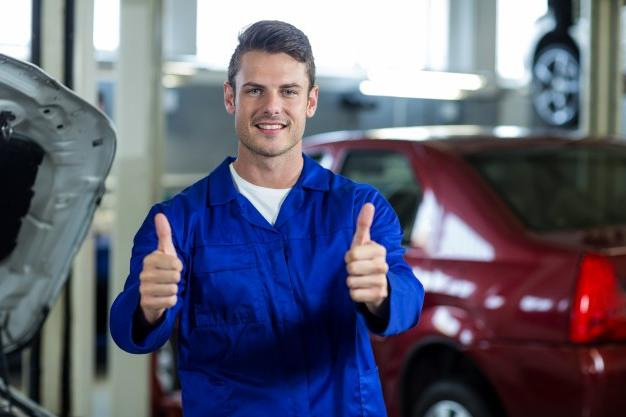thumbsup: (344, 203, 389, 302), (139, 213, 184, 310)
